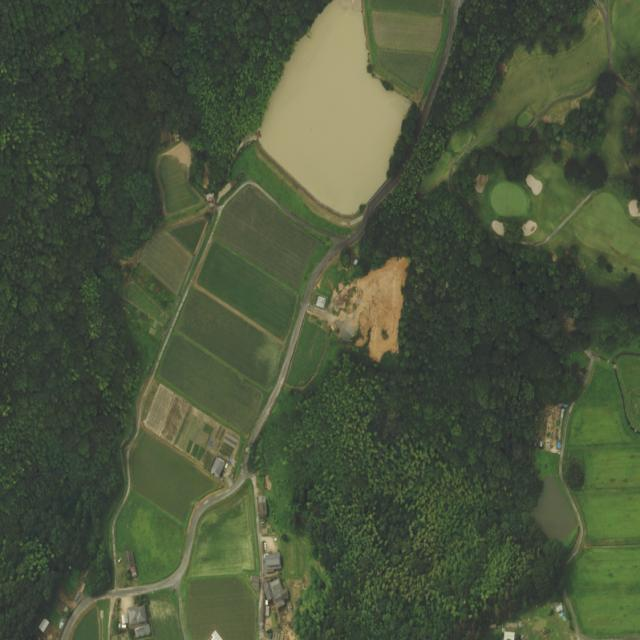landslide: (322, 257, 408, 362)
